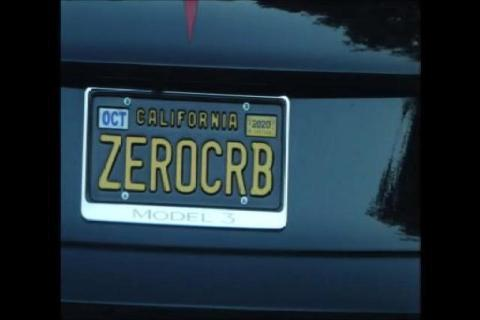LicensePlate: (82, 84, 292, 230)
